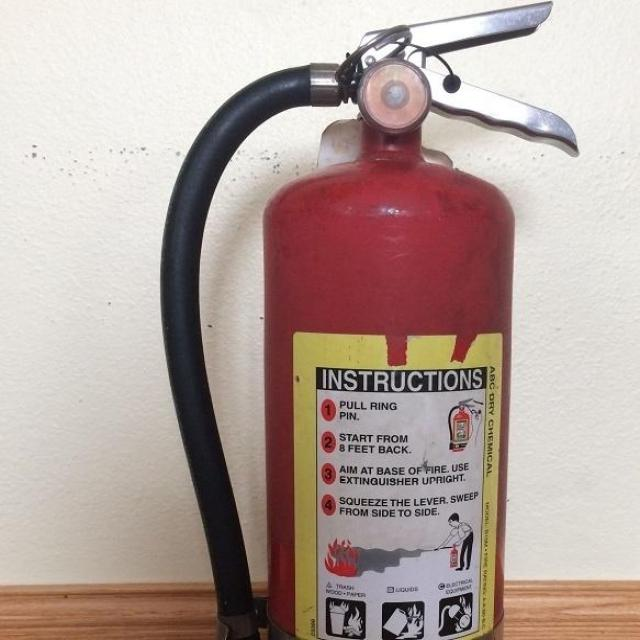fire_extinguisher: (151, 0, 587, 639)
